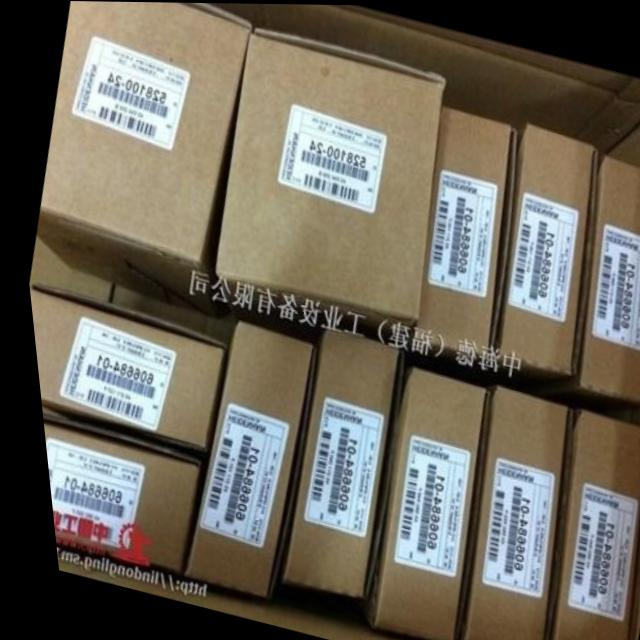box: (33, 1, 248, 319), (210, 29, 441, 318), (173, 321, 307, 597), (349, 366, 479, 640), (269, 327, 397, 596), (23, 284, 216, 448), (443, 385, 562, 640), (483, 124, 591, 374), (406, 106, 510, 361), (530, 410, 640, 640), (34, 418, 193, 570), (565, 156, 640, 402)
